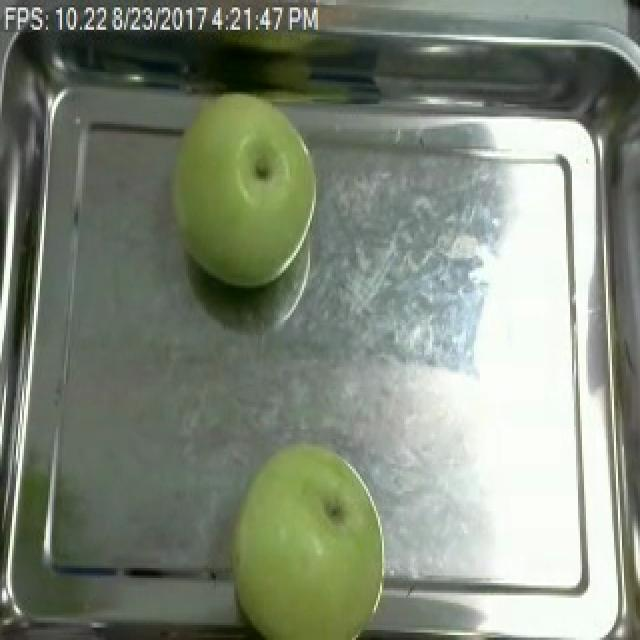50-_ripeness: (232, 448, 401, 631), (169, 90, 314, 280)
